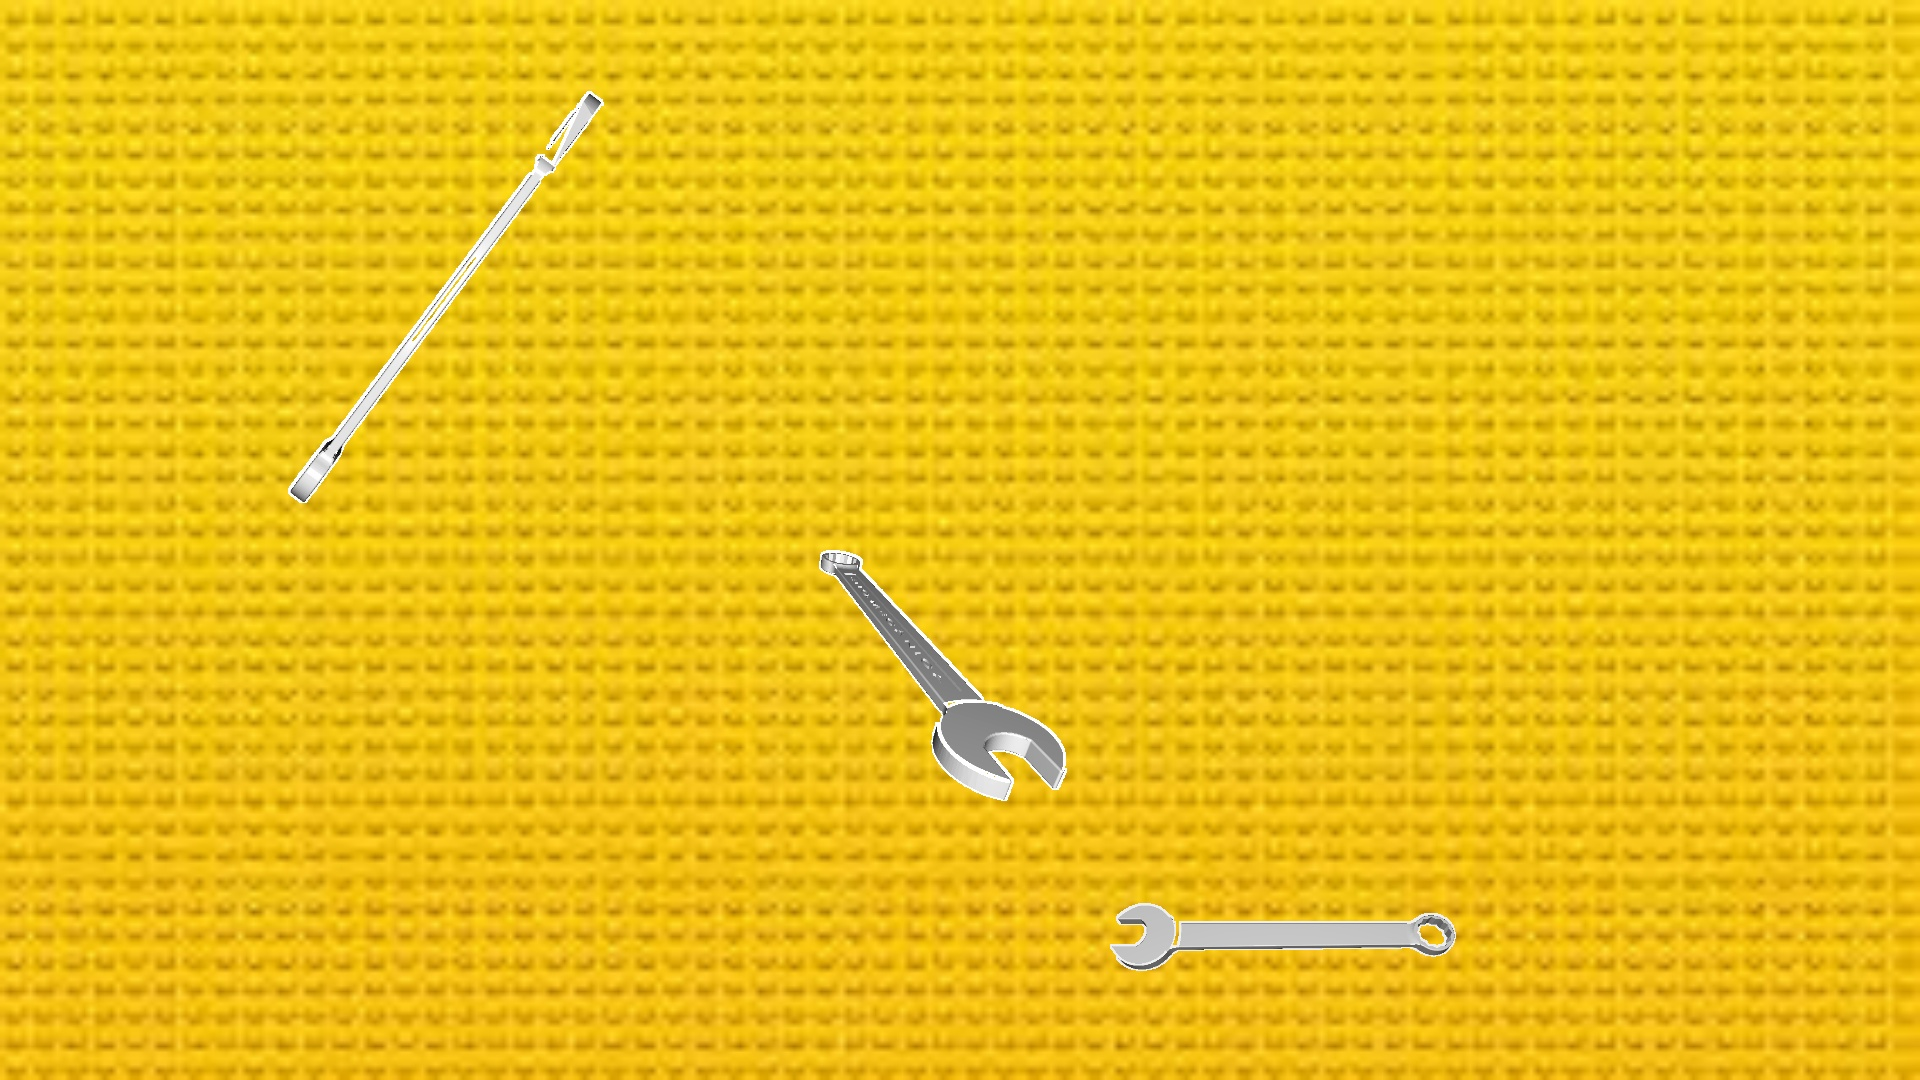Mixed Key: (287, 91, 603, 502), (819, 550, 1065, 800), (1110, 903, 1455, 971)
